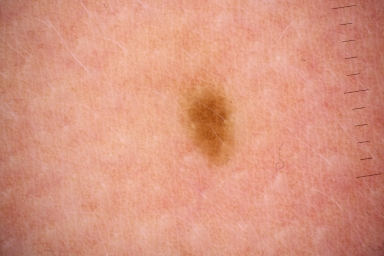nevus: (188, 93, 230, 169)
